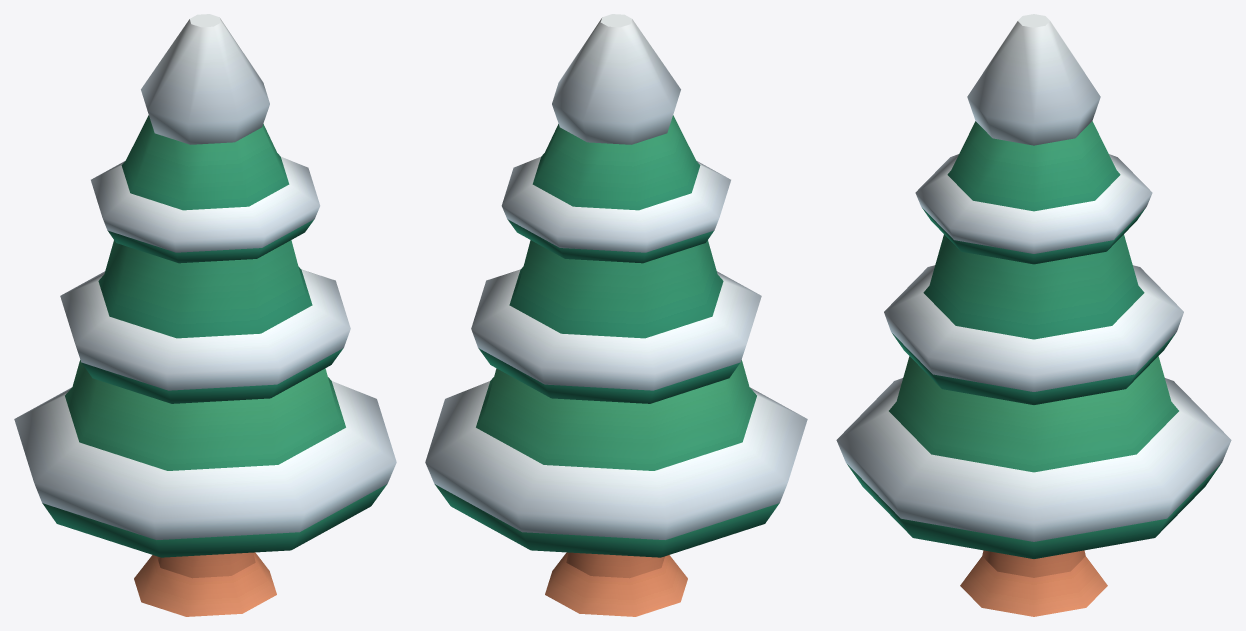
File: k-holiday-tree-snow-b.glb
3 renders of one model, left to right at view 1: azimuth 30°, elevation 25°; view 2: azimuth 150°, elevation 25°; view 3: azimuth 270°, elevation 25°, orthographic.
Parts seen in each view (by area): view 1: tree-snow-b; view 2: tree-snow-b; view 3: tree-snow-b.
Part boxes in pixels (bbox=[...]): tree-snow-b: bbox=[14, 14, 396, 616]; tree-snow-b: bbox=[425, 14, 807, 616]; tree-snow-b: bbox=[836, 14, 1231, 616].
Size of the model in its own units: 1.25 by 1.97 by 1.25.
Materials: 1 (1 with a texture image).
